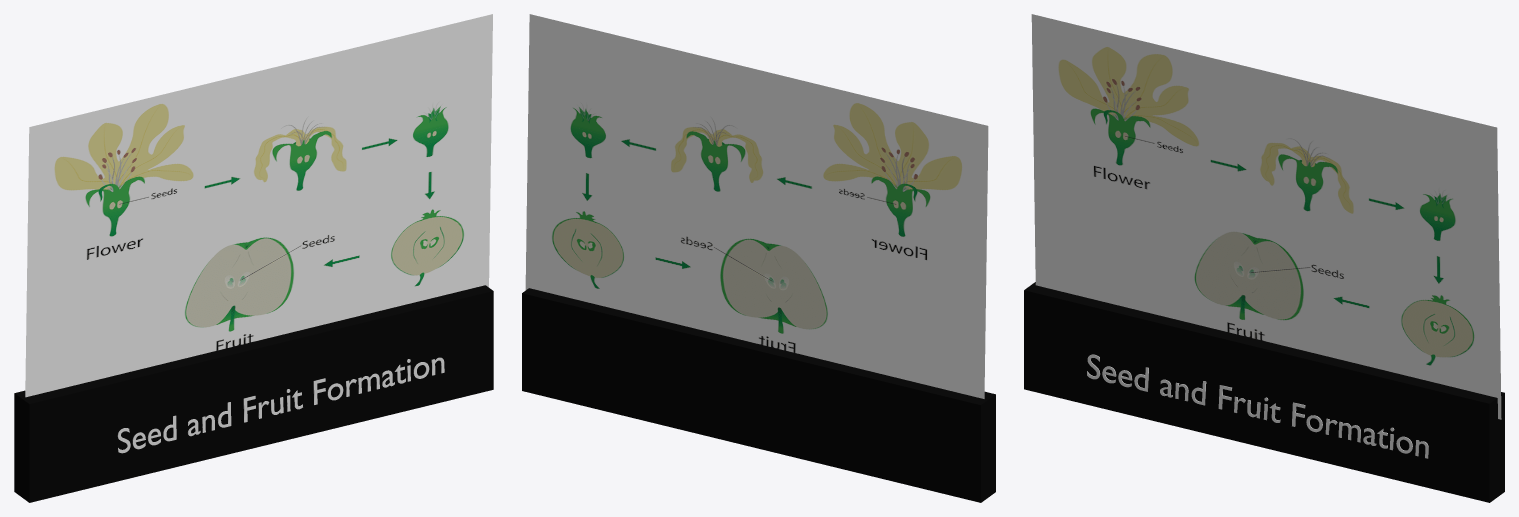
File: seedymo.gltf
3 renders of one model, left to right at view 1: azimuth 30°, elevation 25°; view 2: azimuth 150°, elevation 25°; view 3: azimuth 330°, elevation 25°, orthographic.
Parts seen in each view (by area): view 1: Applefruit, Cube.001, Text.004; view 2: Applefruit, Cube.001; view 3: Applefruit, Cube.001, Text.004.
Boxes of the visible parts, bbox=[...] form: Applefruit: bbox=[25, 14, 492, 397]; Cube.001: bbox=[14, 285, 493, 502]; Text.004: bbox=[117, 357, 444, 453]; Applefruit: bbox=[525, 14, 988, 398]; Cube.001: bbox=[522, 288, 995, 502]; Applefruit: bbox=[1031, 14, 1501, 419]; Cube.001: bbox=[1024, 282, 1504, 502]; Text.004: bbox=[1087, 354, 1428, 458].
Size of the model in its own units: 3.78 by 2.88 by 0.3969.
2 materials, 1 textured.
